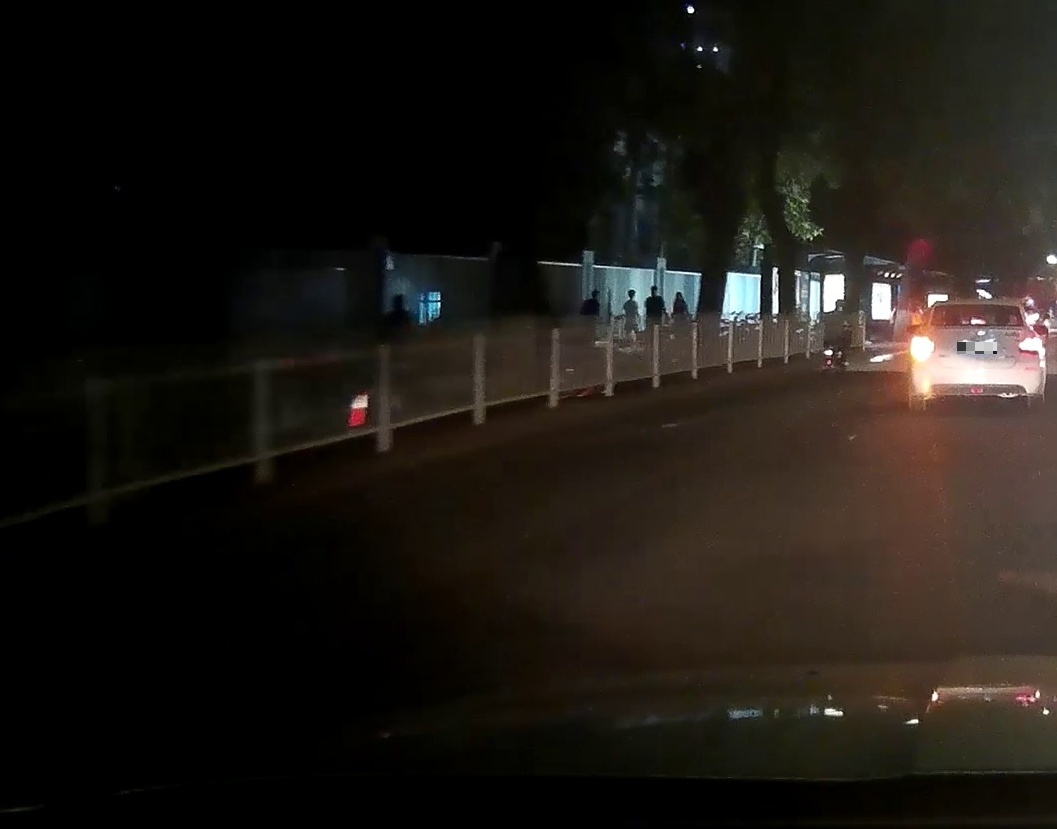L_light: (909, 336, 935, 354)
R_light: (1019, 337, 1044, 353)
T_light: (961, 317, 987, 326)
night-left: (906, 297, 1048, 411)
plate_1: (957, 342, 997, 354)
